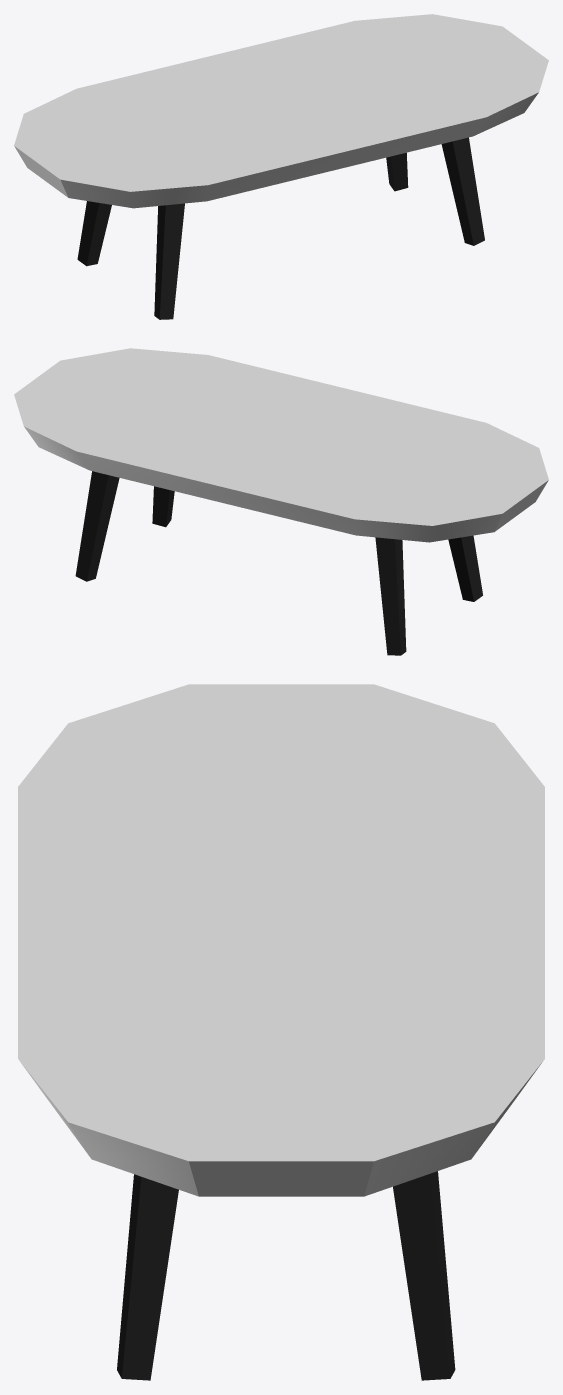
The model's file is coffee_table_007.glb.
3 renders of one model, top to bottom at view 1: azimuth 30°, elevation 25°; view 2: azimuth 150°, elevation 25°; view 3: azimuth 270°, elevation 25°, orthographic. The views are drawn at different scales.
Visible parts, largest first — view 1: coffee_table_007; view 2: coffee_table_007; view 3: coffee_table_007.
Boxes of the visible parts, <box> form: coffee_table_007: <box>14,14,548,319</box>; coffee_table_007: <box>14,348,548,655</box>; coffee_table_007: <box>18,684,544,1380</box>.
Size of the model in its own units: 1.32 by 0.3905 by 0.6156.
1 material, 1 textured.
